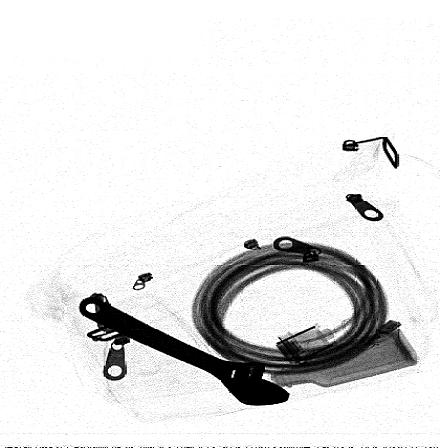Wrench: (78, 295, 289, 406)
